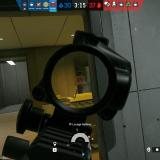Friend_label: (123, 69, 130, 74)
